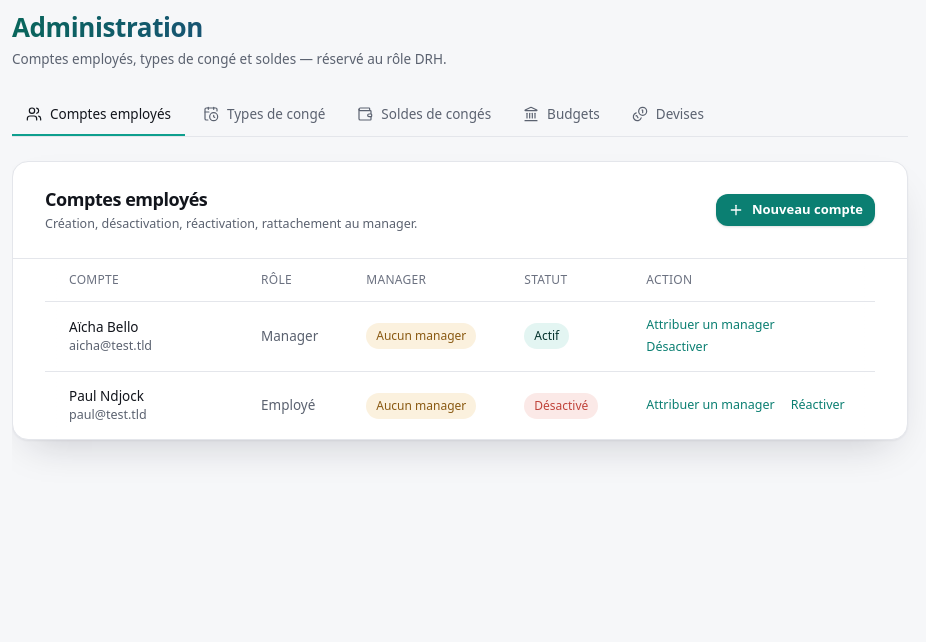
Scenario: AdminPage — onglet Soldes › erreur d'enregistrement affichee sans planter la page
Expected: the text "Aïcha Bello" is shown, 69,318 -> 138,336
Click the button "Soldes de congés": [424, 115] box 343,94 -> 505,136
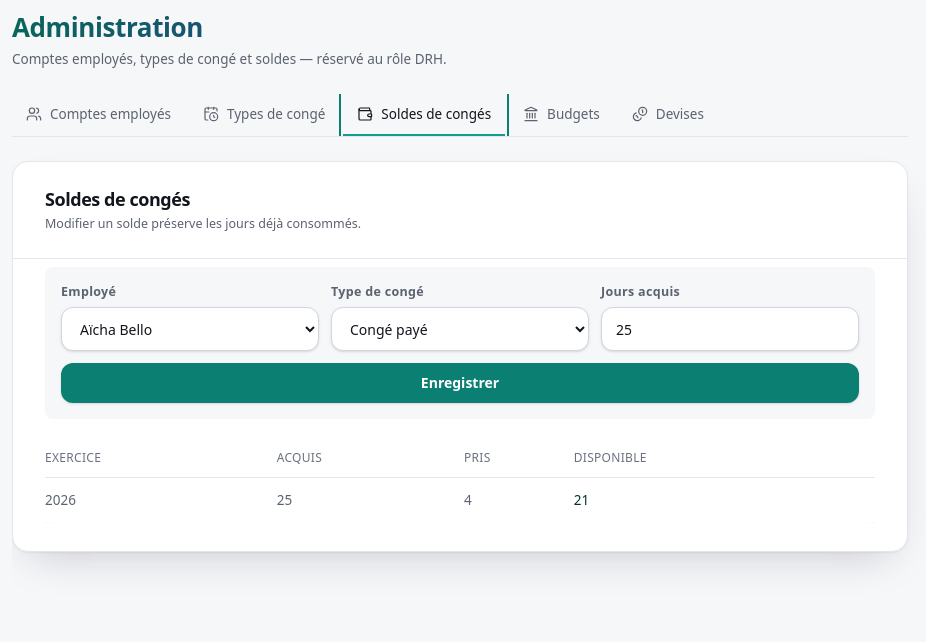
Result: the dropdown labelled "Employé" is shown at 61,307 -> 319,351
Click the button "Enregistrer": [460, 383] box 61,363 -> 859,403
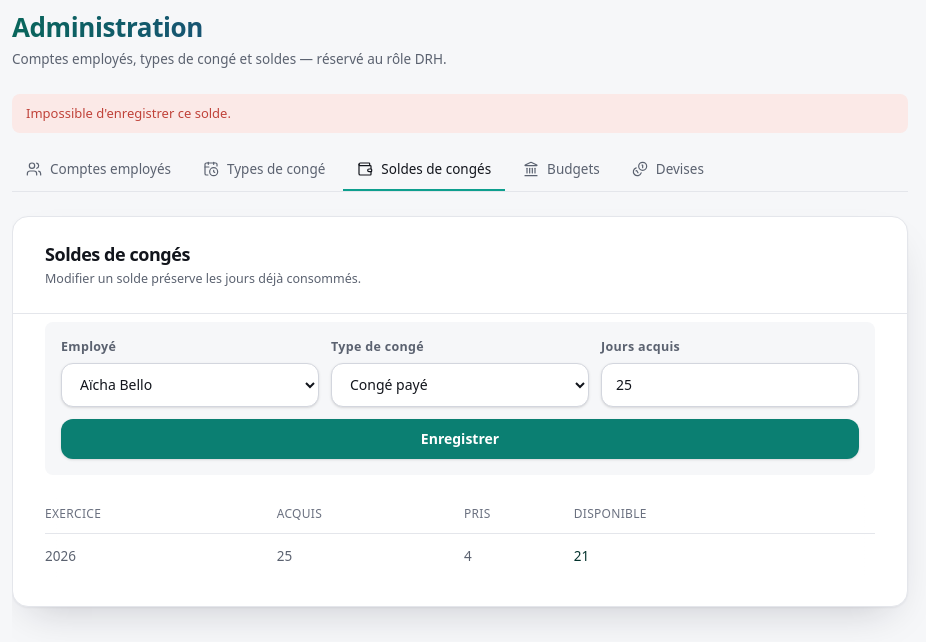
Result: the text "Impossible d'enregistrer ce solde." is shown at 12,94 -> 908,133
